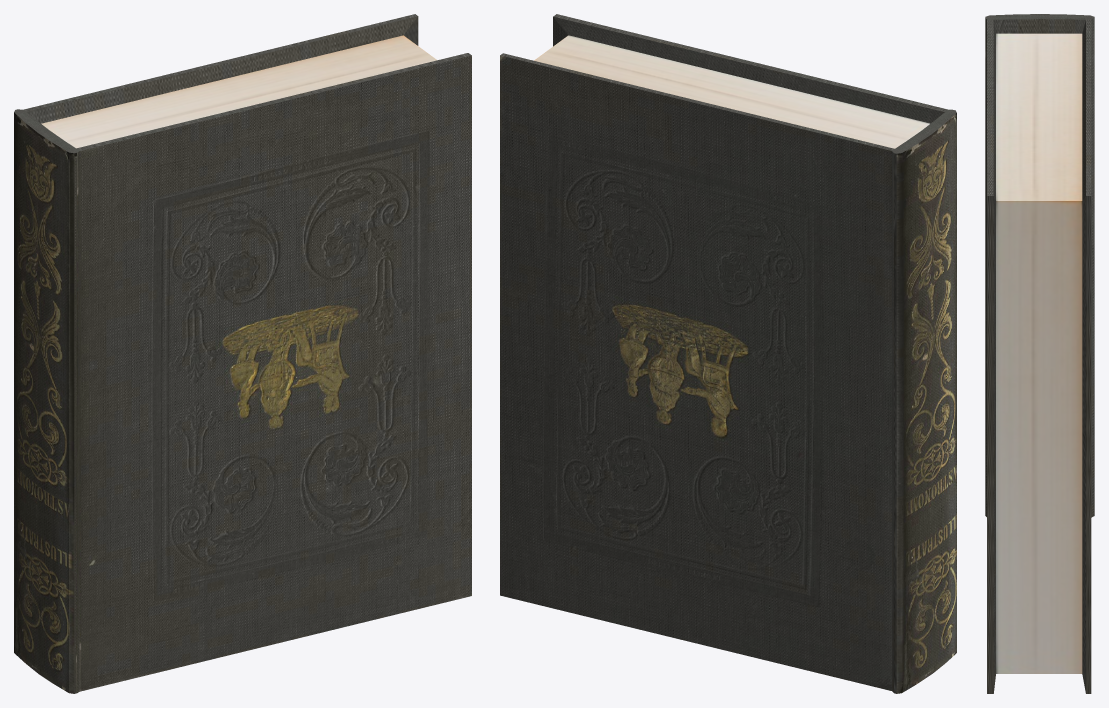
File: book1.fbx
3 renders of one model, left to right at view 1: azimuth 30°, elevation 25°; view 2: azimuth 150°, elevation 25°; view 3: azimuth 270°, elevation 25°, orthographic. The views are drawn at different scales.
Parts seen in each view (by area): view 1: Cube; view 2: Cube; view 3: Cube.
Part boxes in pixels (left/top/right/bottom): Cube: left=14, top=14, right=471, bottom=693; Cube: left=500, top=14, right=956, bottom=693; Cube: left=985, top=14, right=1094, bottom=693.
Bounding box in the file's own units: 7.81 × 9.97 × 1.98.
Materials: 2 (2 with a texture image).
